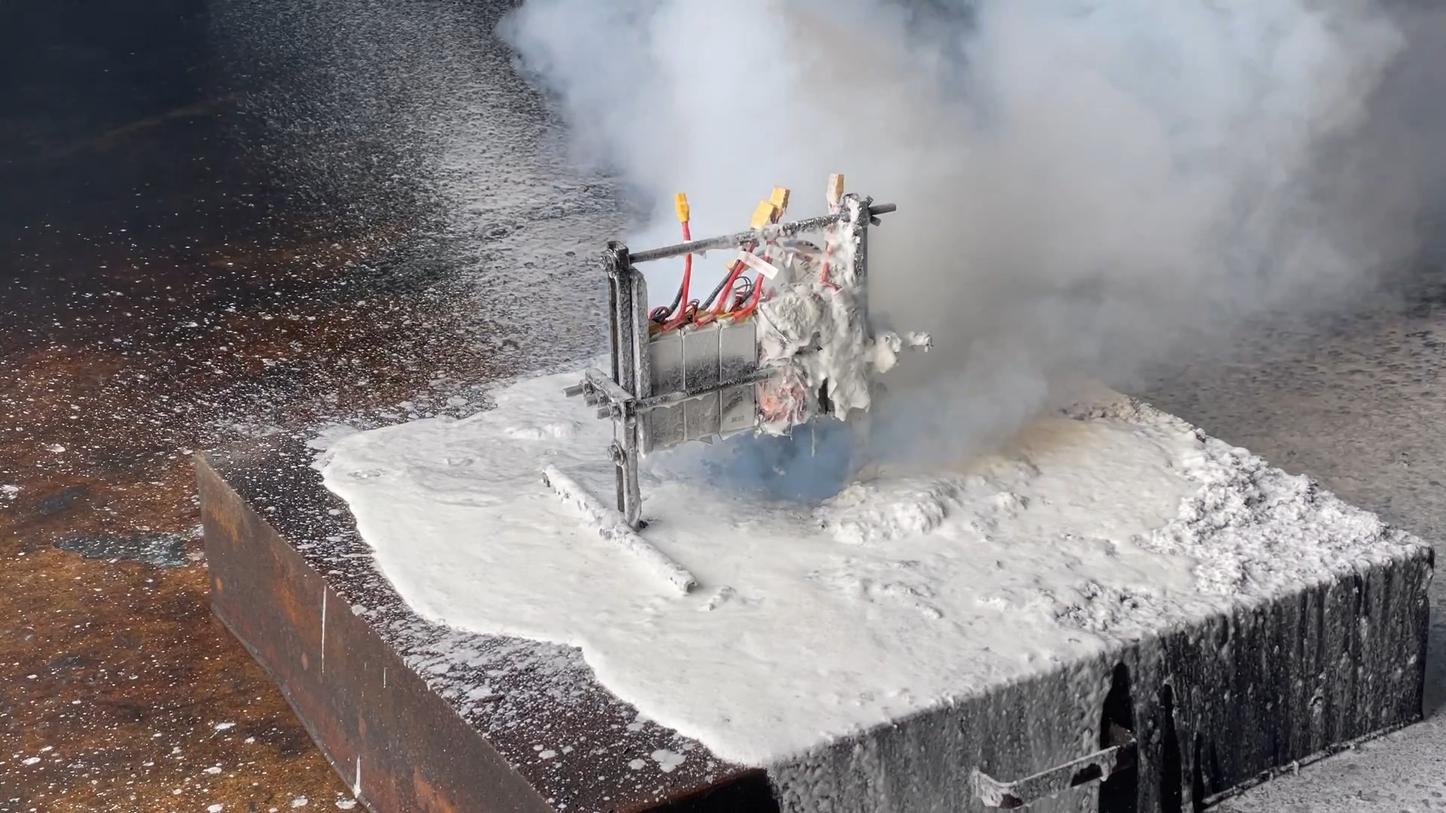smoke: (496, 0, 1446, 480)
